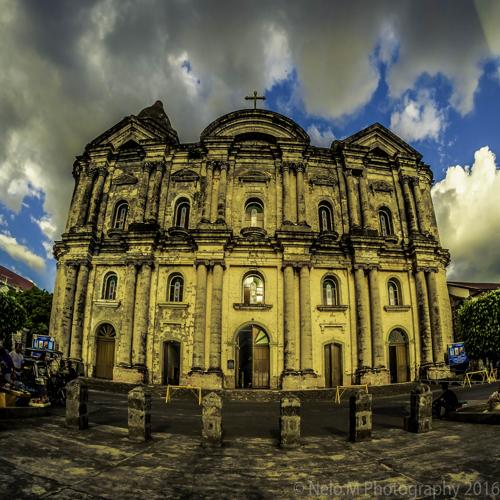Taal Basilica Church: (42, 87, 466, 416)
